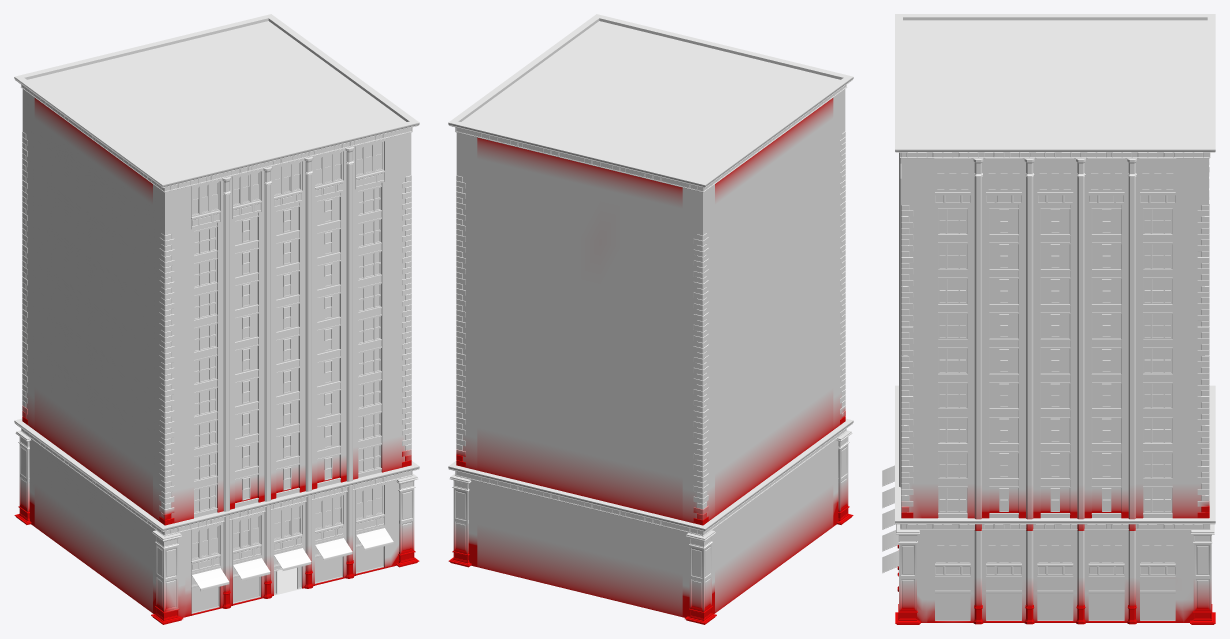
File: Building_Large_1.gltf
The picture shows the model from 3 angles, left to right: view 1: azimuth 30°, elevation 25°; view 2: azimuth 150°, elevation 25°; view 3: azimuth 270°, elevation 25°; orthographic projection. The views are drawn at different scales.
Parts seen in each view (by area): view 1: Building_Large_1; view 2: Building_Large_1; view 3: Building_Large_1.
Part boxes in pixels (left/top/right/bottom): Building_Large_1: left=14, top=14, right=419, bottom=624; Building_Large_1: left=448, top=14, right=853, bottom=624; Building_Large_1: left=882, top=14, right=1215, bottom=624.
Size of the model in its own units: 25.04 by 41 by 26.03.
